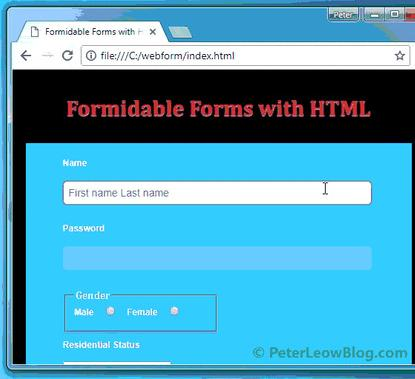field: (63, 180, 375, 206), (61, 246, 373, 272), (80, 44, 412, 67)
field_with_label: (61, 158, 378, 208), (59, 224, 375, 274)
radio: (104, 306, 116, 317), (168, 306, 180, 317)
radio_with_label: (125, 304, 184, 319), (72, 304, 117, 319)
